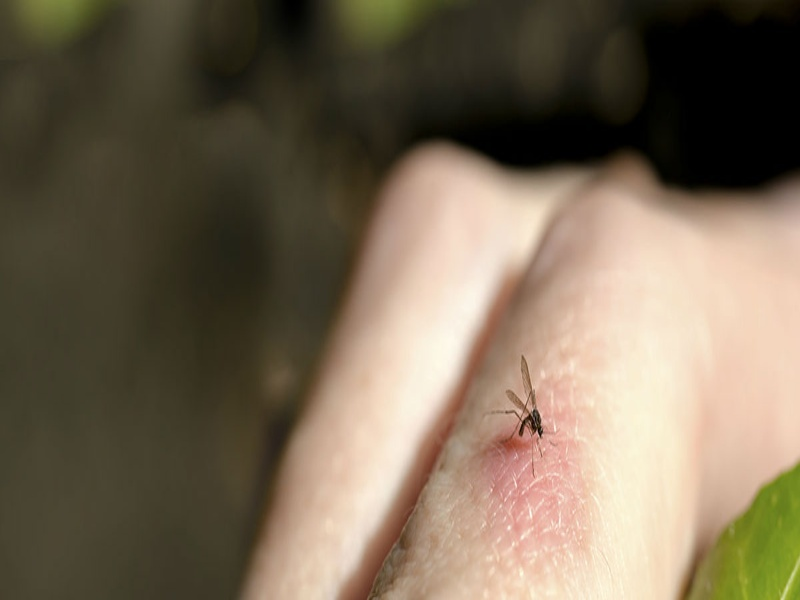dengue_mosquito: (499, 356, 549, 453)
